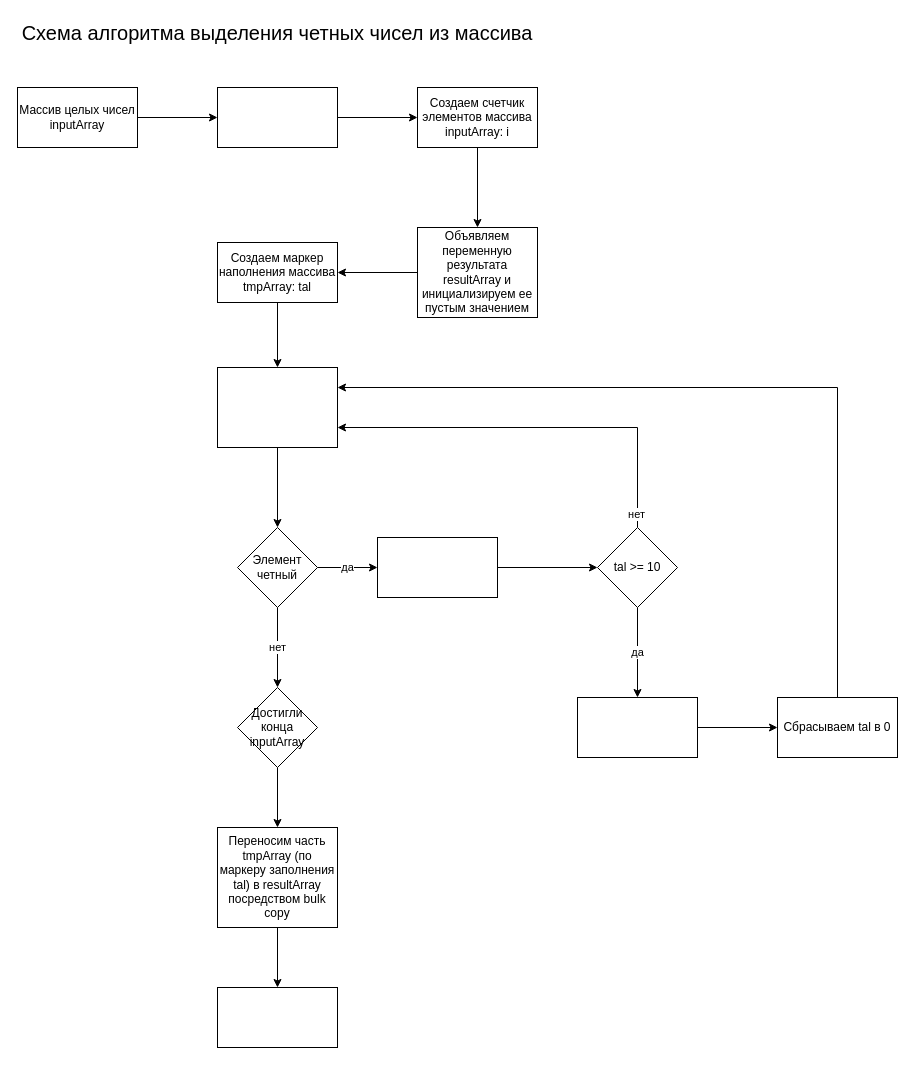
Some shapes in this 915 by 1065 pixel diagram are drawn without their labels. The centre of each missing label's shape, as x and y in pixels:
Берем очередной элемент из массива inputArray и увеличиваем счетчик i на 1: pixel 277 407
Возвращаем на выход результат resultArray: pixel 277 1017
Копируем элемент в tmpArray[tal] и увеличиваем tal на 1: pixel 437 567
Переносим tmpArray в resultArray посредством bulk copy: pixel 637 727
Создаем пустой массив из 10 элементов tmpArray: pixel 277 117
